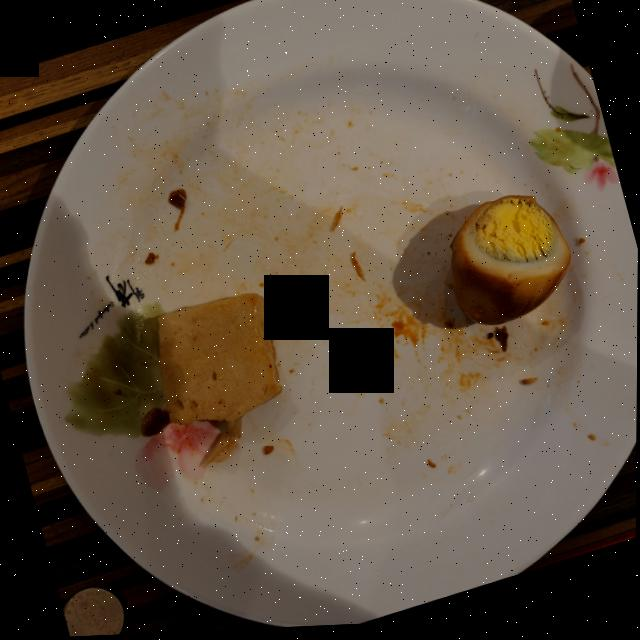coin: (64, 587, 126, 637)
creamy tofu -without sauce-: (158, 295, 282, 468)
soy egg: (450, 199, 571, 329)
